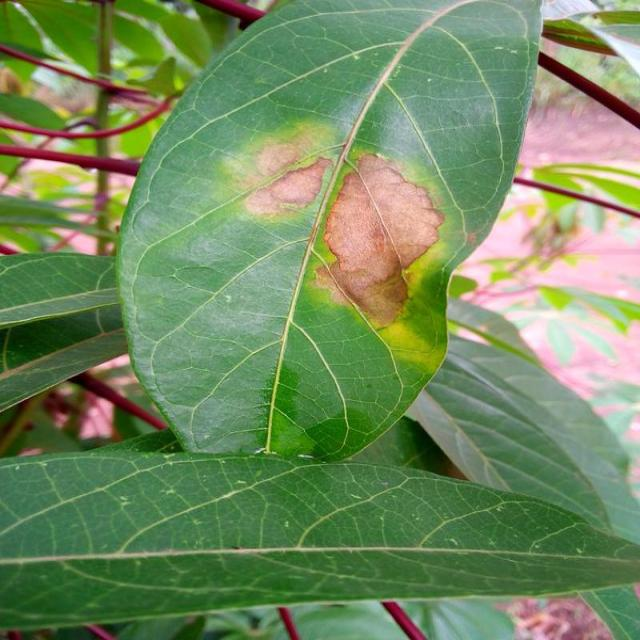cassava leaf: (114, 0, 546, 464)
